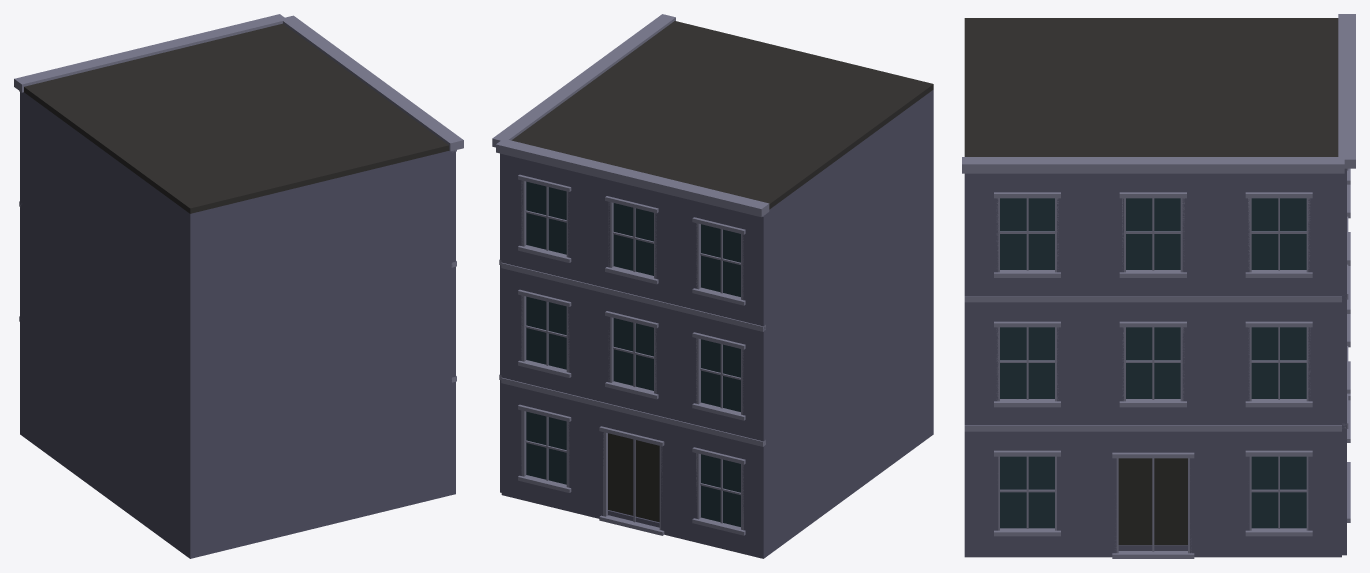
The model's file is office_3b_3f_corner.obj.
3 renders of one model, left to right at view 1: azimuth 30°, elevation 25°; view 2: azimuth 150°, elevation 25°; view 3: azimuth 270°, elevation 25°, orthographic. The views are drawn at different scales.
Parts seen in each view (by area): view 1: rear_1, party_wall_2, roof_slab_205, foundation_0, cornice_103, cornice_204, wall_pier_170; view 2: party_wall_2, roof_slab_205, cornice_103, door_17, cornice_204, wall_pier_69, wall_pier_35, wall_pier_3, recessed_glass_27, recessed_glass_50, recessed_glass_84, recessed_glass_61 (+40 smaller); view 3: roof_slab_205, cornice_204, door_118, wall_pier_104, wall_pier_148, wall_pier_182, wall_pier_124, wall_pier_125, wall_pier_105, wall_pier_170, wall_pier_136, wall_pier_158 (+50 smaller).
Boxes of the visible parts, x1,y1,x2,y2 form: rear_1: (185, 151, 451, 558); party_wall_2: (22, 92, 197, 557); roof_slab_205: (24, 23, 448, 213); foundation_0: (22, 430, 451, 558); cornice_103: (14, 14, 286, 92); cornice_204: (280, 15, 463, 151); wall_pier_170: (448, 150, 455, 265); party_wall_2: (765, 90, 933, 556); roof_slab_205: (511, 21, 933, 209); cornice_103: (496, 139, 769, 217); door_17: (608, 433, 659, 522); cornice_204: (492, 14, 675, 147); wall_pier_69: (742, 213, 767, 328); wall_pier_35: (742, 326, 767, 441); wall_pier_3: (742, 441, 767, 558); recessed_glass_27: (526, 411, 566, 484); recessed_glass_50: (613, 318, 653, 390); recessed_glass_84: (613, 203, 653, 275); recessed_glass_61: (526, 296, 566, 369); roof_slab_205: (964, 18, 1338, 156); cornice_204: (962, 157, 1344, 173); door_118: (1118, 458, 1187, 545); wall_pier_104: (964, 431, 998, 557); wall_pier_148: (1182, 302, 1216, 425); wall_pier_182: (1182, 173, 1216, 296); wall_pier_124: (1216, 431, 1249, 557); wall_pier_125: (1308, 431, 1341, 557); wall_pier_105: (1057, 431, 1090, 557); wall_pier_170: (964, 173, 998, 296); wall_pier_136: (964, 302, 998, 425); wall_pier_158: (1216, 302, 1249, 425).
Bounding box in the file's own units: 8.49 × 10.44 × 9.39.
